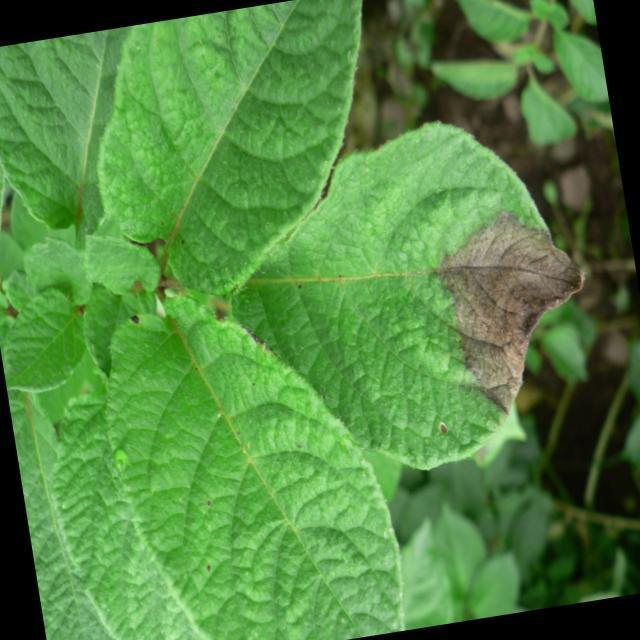Healthy Leaf: (93, 278, 411, 640), (82, 0, 380, 310), (0, 280, 90, 403)
